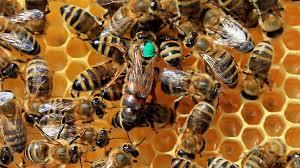Queen-Bee: (114, 31, 158, 133)
worker-bee: (181, 22, 242, 93), (174, 98, 227, 158), (239, 36, 282, 97), (22, 48, 53, 130), (36, 120, 119, 150), (57, 4, 114, 41), (24, 135, 91, 165), (40, 96, 109, 124), (160, 73, 220, 98)
